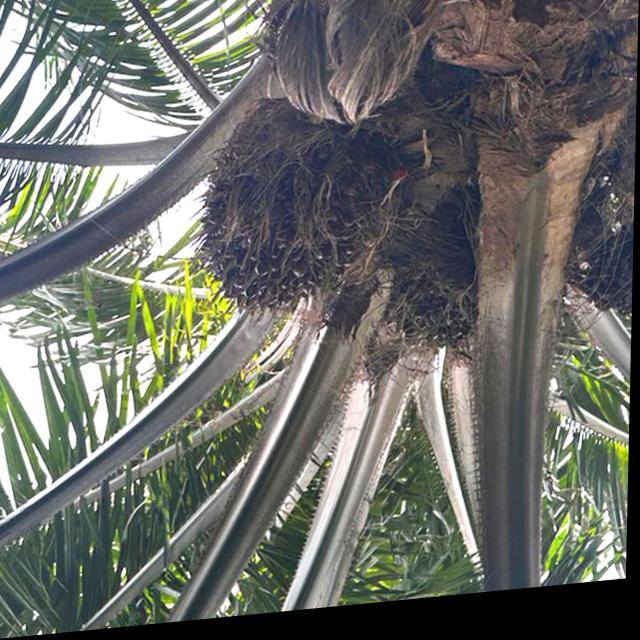unripe: (185, 86, 404, 332), (351, 173, 510, 380)
